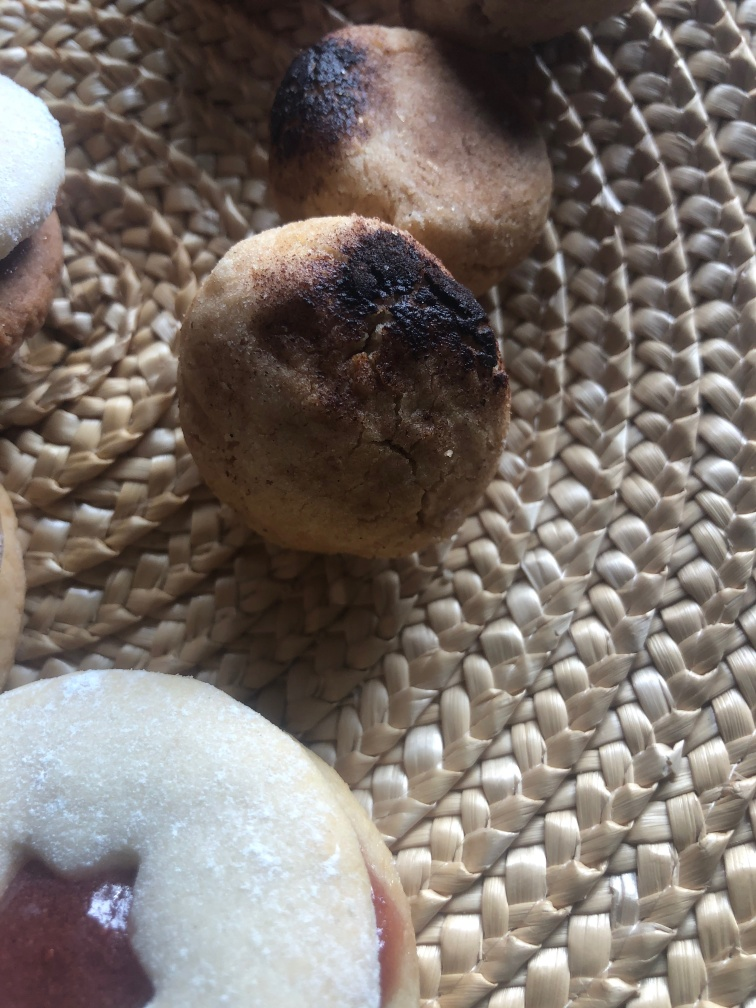christmas shortbread with jam: (2, 668, 423, 1008)
snowball: (171, 216, 502, 567), (280, 19, 552, 254)
